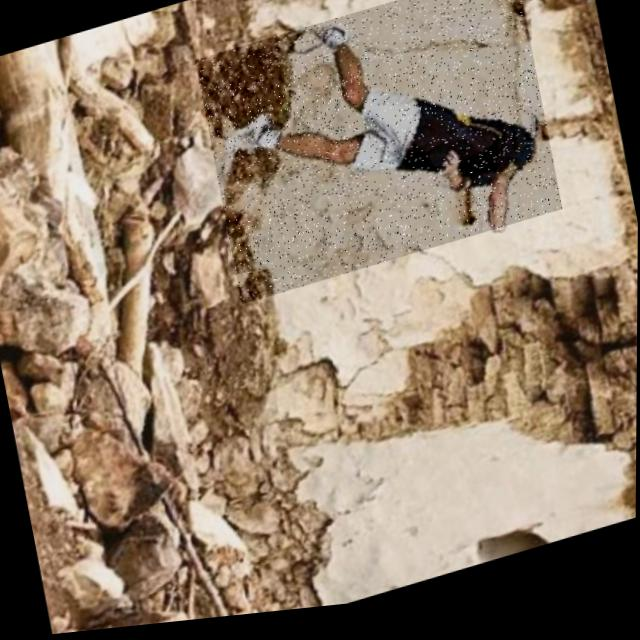Person in Rubble: (193, 0, 563, 314)
